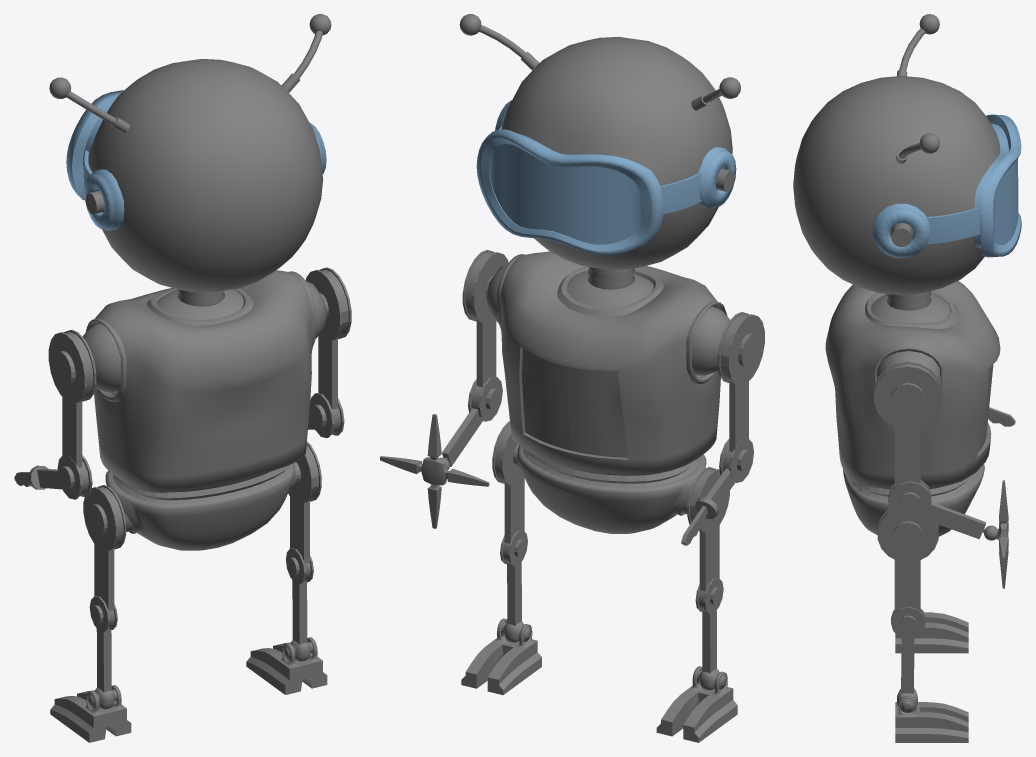
Rendered from Blu_low3.fbx.
The picture shows the model from 3 angles, left to right: view 1: azimuth 30°, elevation 25°; view 2: azimuth 150°, elevation 25°; view 3: azimuth 270°, elevation 25°; orthographic projection. The views are drawn at different scales.
Parts seen in each view (by area): view 1: Torso_low001, Goggles; view 2: Torso_low001, Goggles; view 3: Torso_low001, Goggles.
Boxes of the visible parts, x1,y1,x2,y2 form: Torso_low001: [14, 14, 351, 742]; Goggles: [66, 90, 326, 230]; Torso_low001: [380, 14, 764, 742]; Goggles: [476, 100, 736, 255]; Torso_low001: [793, 14, 1015, 742]; Goggles: [872, 114, 1021, 258].
Bounding box in the file's own units: 79.81 × 52.56 × 156.
